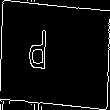P_S: (45, 28, 65, 82)
